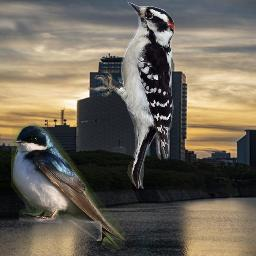Swallow: (11, 124, 125, 253)
Woodpecker: (88, 0, 177, 189)
